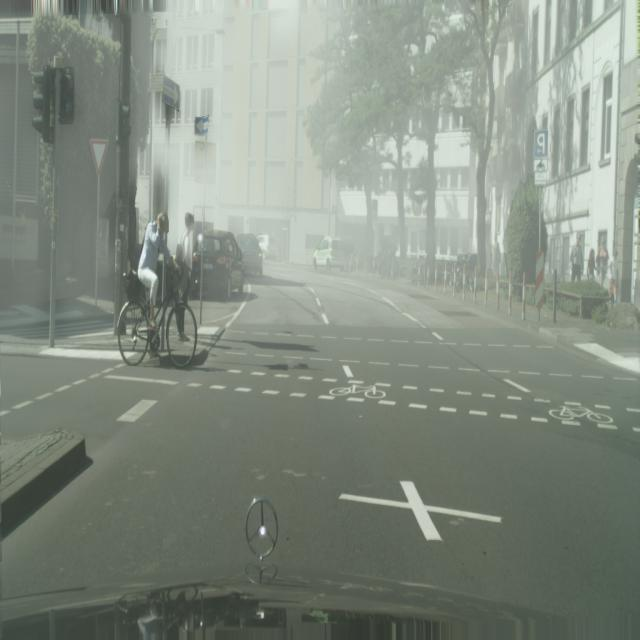car: (117, 212, 198, 368)
person: (179, 213, 195, 309), (608, 248, 618, 308), (571, 234, 582, 282), (599, 241, 609, 288), (587, 246, 595, 281)
truck: (191, 231, 245, 300), (312, 236, 348, 272), (238, 234, 264, 278), (256, 232, 279, 260)
